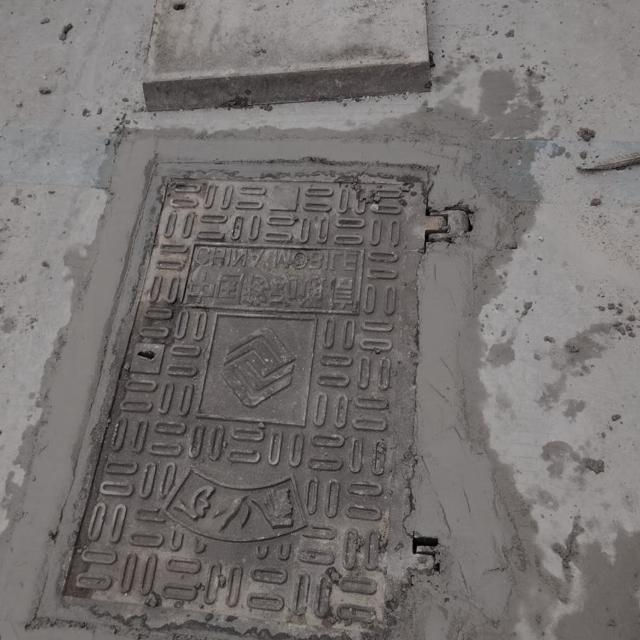good: (23, 158, 468, 640)
